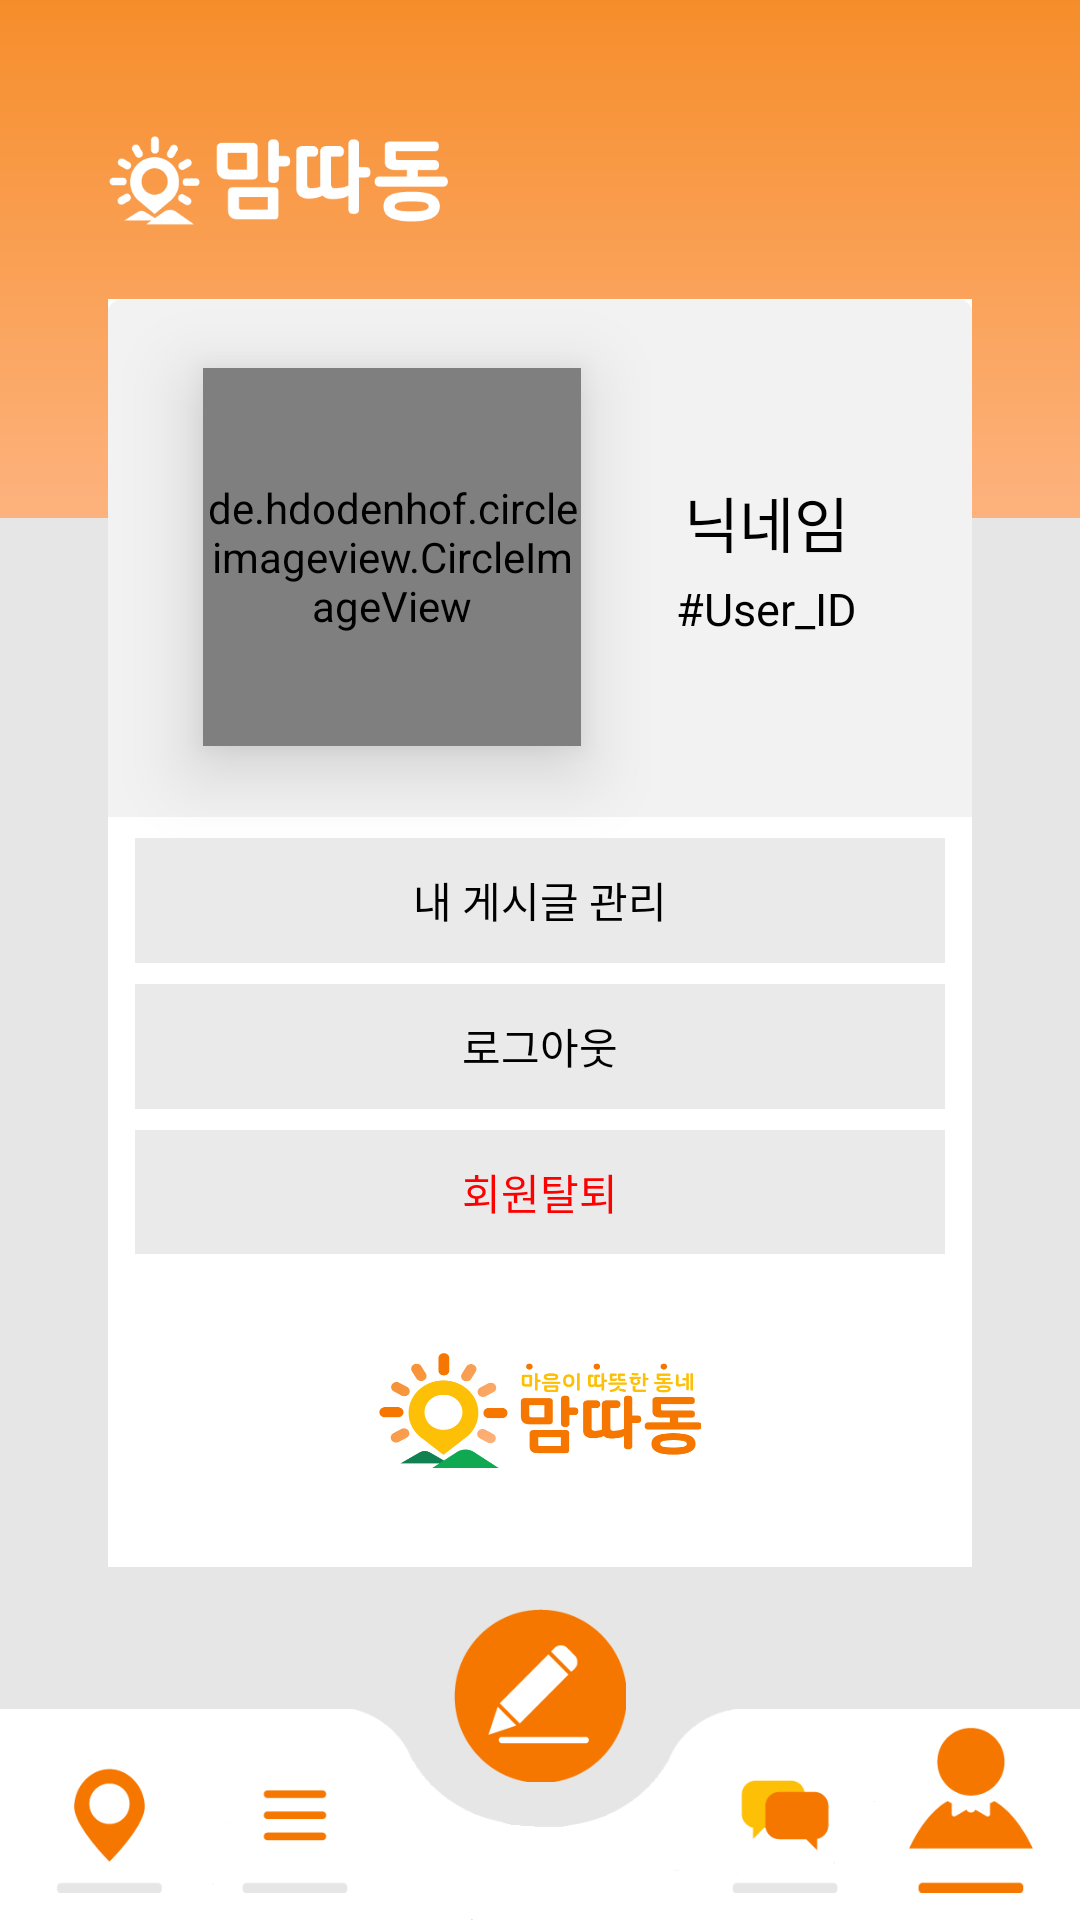

Icons on this 1080px×1920px Android screen, each with its box as box=[x1, y1, x2, y2]:
category: box=[243, 1790, 347, 1893]
chat: box=[733, 1780, 837, 1893]
map: box=[58, 1768, 161, 1893]
profile: box=[909, 1728, 1033, 1893]
write: box=[454, 1609, 626, 1782]
